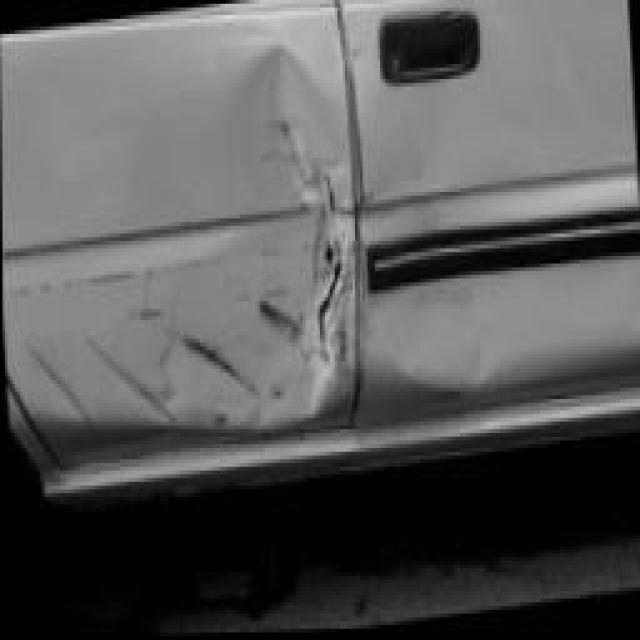Door: (0, 0, 361, 474)
